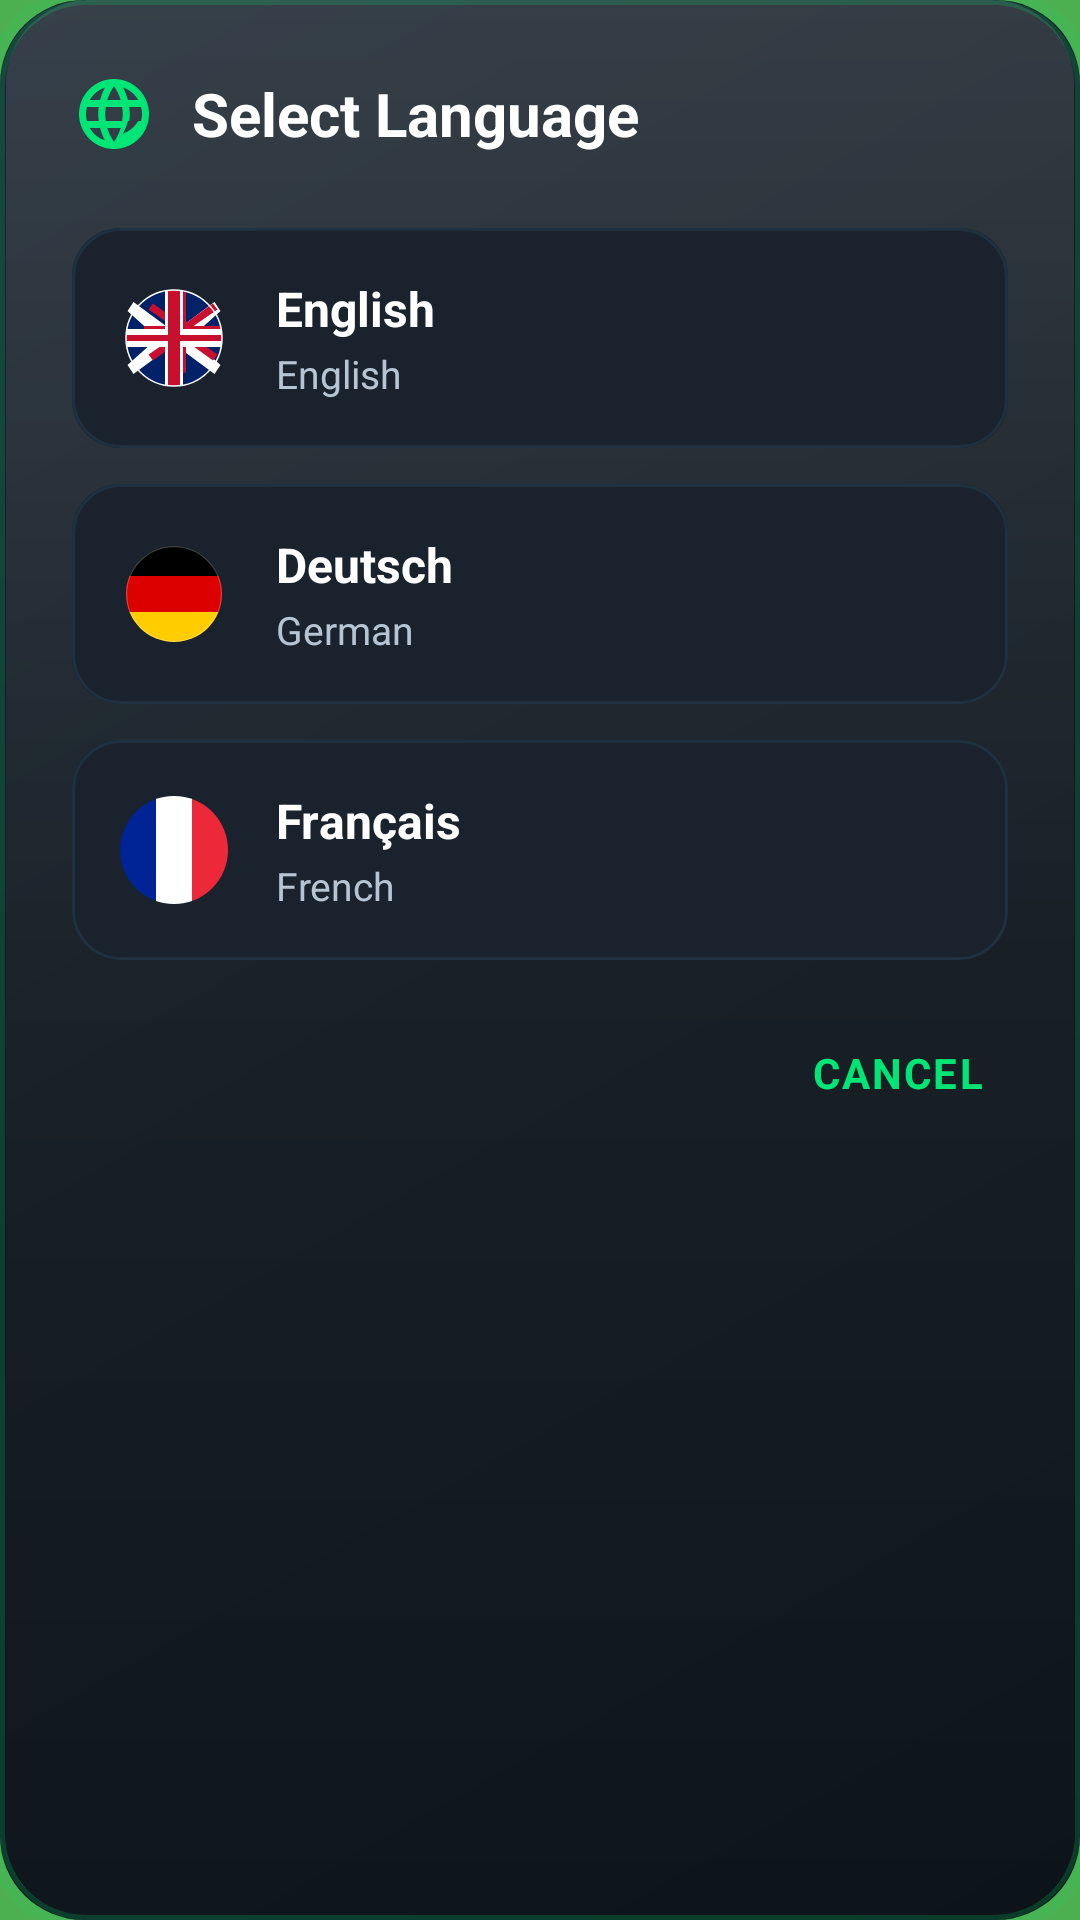

Where icons sit on this 1080px×1920px app screen, as (x1, y1, x2, y2):
flag france: (120, 796, 228, 904)
flag uk: (125, 289, 223, 387)
